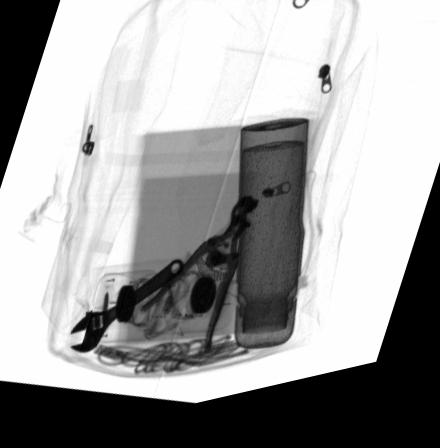Pliers: (136, 209, 258, 363)
Wrench: (68, 267, 183, 357)
